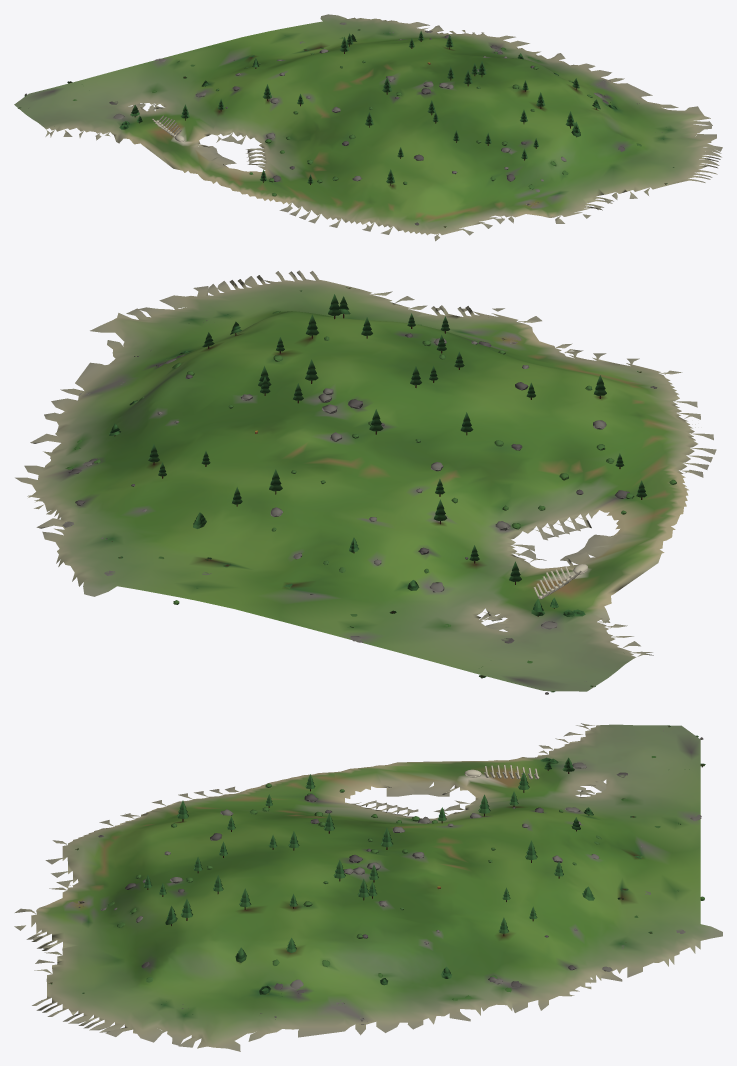
Rendered from arch_isl_coil_isle_lod1.glb.
The picture shows the model from 3 angles, top to bottom: view 1: azimuth 30°, elevation 25°; view 2: azimuth 150°, elevation 25°; view 3: azimuth 270°, elevation 25°; orthographic projection. The views are drawn at different scales.
Parts seen in each view (by area): view 1: arch_isl_coil_isle_lod1; view 2: arch_isl_coil_isle_lod1; view 3: arch_isl_coil_isle_lod1.
Part boxes in pixels (x1,y1,x2,y2): arch_isl_coil_isle_lod1: (14,14,722,241); arch_isl_coil_isle_lod1: (15,270,716,694); arch_isl_coil_isle_lod1: (14,723,722,1051).
Size of the model in its own units: 298 by 32.67 by 271.
